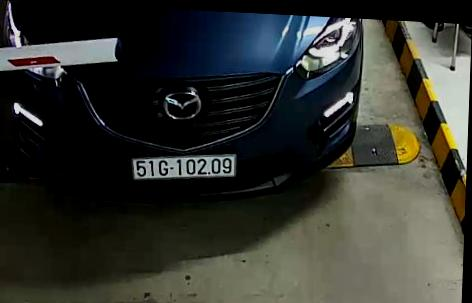License_Plate: (127, 147, 239, 184)
